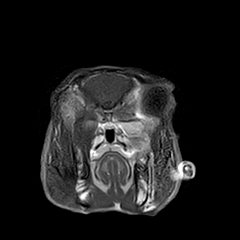Brain: (58, 40, 157, 138)
